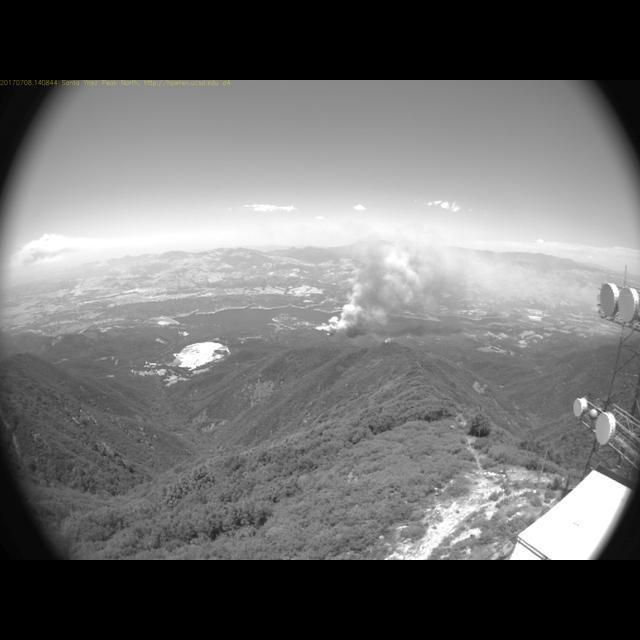Smoke: (312, 220, 519, 334)
